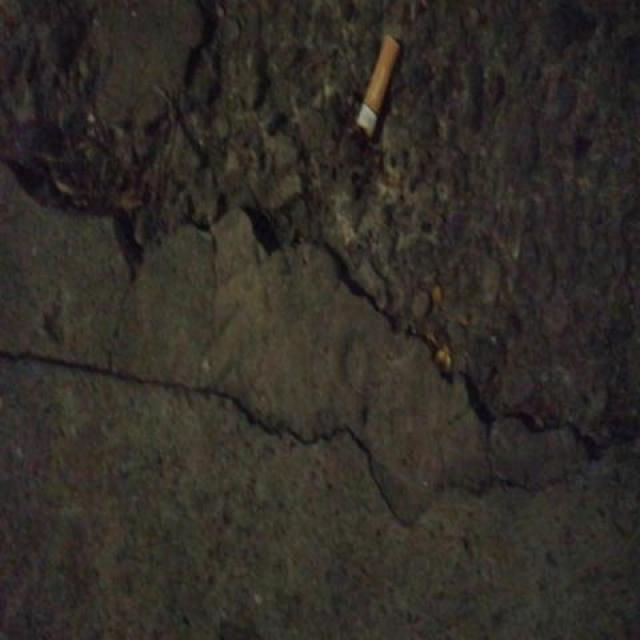non-organic waste: (352, 32, 404, 144)
